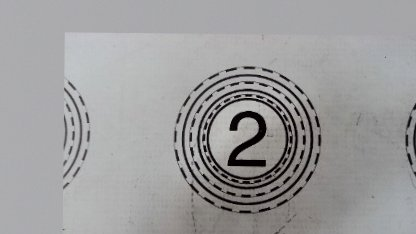2r: (169, 61, 323, 217)
